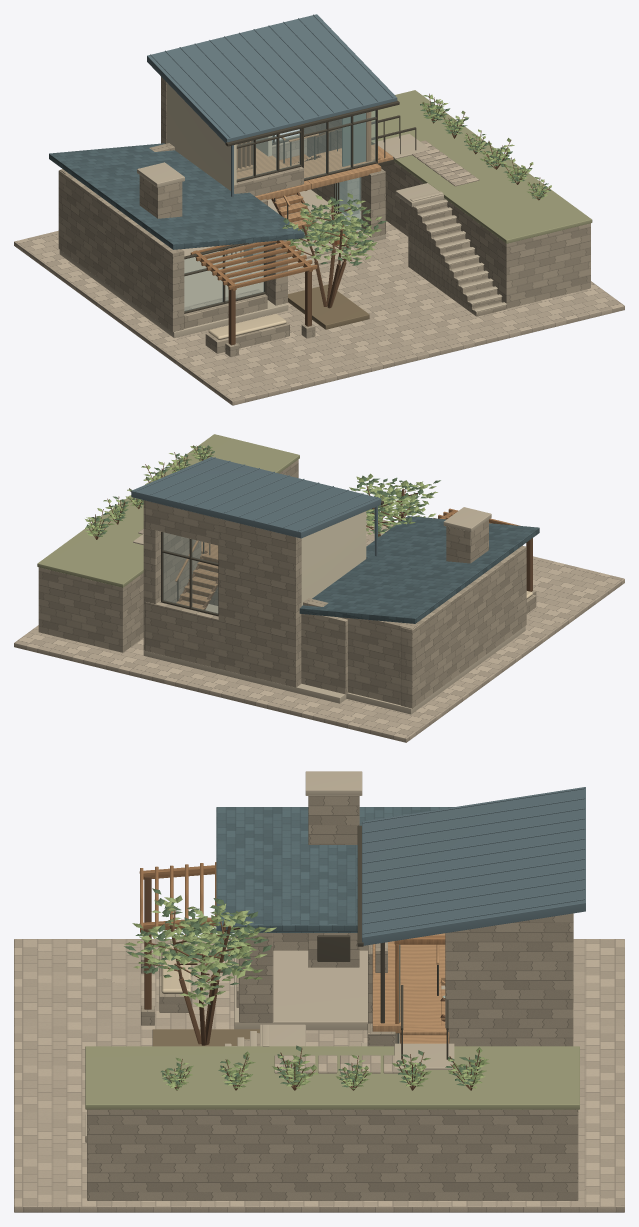
The model's file is bridge-court.glb.
3 renders of one model, top to bottom at view 1: azimuth 30°, elevation 25°; view 2: azimuth 150°, elevation 25°; view 3: azimuth 270°, elevation 25°, orthographic. The views are drawn at different scales.
Parts seen in each view (by area): view 1: Valley floor, Upper roof, Reading room stone roof, East garden terrace, Western outer wall, East embankment, Bedroom west wall, Western lower wing, Gallery street window glass, Corner reading window glass, Loft glazing glass, Garden bed (+23 smaller); view 2: Valley floor, North masonry spine, Reading room stone roof, Western outer wall, Upper roof, East garden terrace, East embankment, Private return, Landing window sill, Bedroom west wall, Landing daylight glass, Kitchen return (+9 smaller); view 3: Valley floor, East embankment, East garden terrace, Upper roof, Reading room stone roof, Bedroom east wall, Western lower wing, Side chimney, Bridge hall floor, Serviceberry foliage.002, Serviceberry foliage.001, Western hearth pier (+11 smaller).
Boxes of the visible parts, x1=… form: Valley floor: x1=14, y1=203, x2=624, y2=405; Upper roof: x1=147, y1=14, x2=397, y2=143; Reading room stone roof: x1=49, y1=143, x2=304, y2=249; East garden terrace: x1=371, y1=90, x2=592, y2=243; Western outer wall: x1=58, y1=170, x2=184, y2=332; East embankment: x1=359, y1=162, x2=590, y2=308; Bedroom west wall: x1=167, y1=83, x2=236, y2=190; Western lower wing: x1=59, y1=246, x2=288, y2=338; Gallery street window glass: x1=304, y1=111, x2=375, y2=178; Corner reading window glass: x1=184, y1=243, x2=263, y2=310; Loft glazing glass: x1=237, y1=129, x2=299, y2=179; Garden bed: x1=288, y1=284, x2=369, y2=329; Valley floor: x1=14, y1=515, x2=624, y2=742; North masonry spine: x1=218, y1=518, x2=301, y2=687; Reading room stone roof: x1=299, y1=516, x2=539, y2=623; Western outer wall: x1=401, y1=545, x2=526, y2=708; Upper roof: x1=131, y1=457, x2=381, y2=538; East garden terrace: x1=37, y1=434, x2=299, y2=587; East embankment: x1=38, y1=459, x2=298, y2=652; Private return: x1=303, y1=598, x2=417, y2=705; Landing window sill: x1=145, y1=600, x2=218, y2=668; Bedroom west wall: x1=301, y1=511, x2=366, y2=605; Landing daylight glass: x1=163, y1=532, x2=217, y2=613; Kitchen return: x1=301, y1=614, x2=347, y2=694; Valley floor: x1=14, y1=939, x2=624, y2=1212; East embankment: x1=87, y1=1109, x2=578, y2=1200; East garden terrace: x1=85, y1=1046, x2=579, y2=1109; Upper roof: x1=362, y1=787, x2=585, y2=945; Reading room stone roof: x1=216, y1=807, x2=453, y2=932; Bedroom east wall: x1=445, y1=913, x2=573, y2=1046; Western lower wing: x1=234, y1=950, x2=445, y2=1030; Side chimney: x1=308, y1=796, x2=359, y2=967; Bridge hall floor: x1=372, y1=977, x2=441, y2=1033; Serviceberry foliage.002: x1=124, y1=888, x2=271, y2=1004; Serviceberry foliage.001: x1=133, y1=897, x2=276, y2=1007; Western hearth pier: x1=239, y1=933, x2=273, y2=1022.
Bounding box in the file's own units: 15.4 × 6.46 × 14.85.
Materials: 22 (5 with a texture image).
